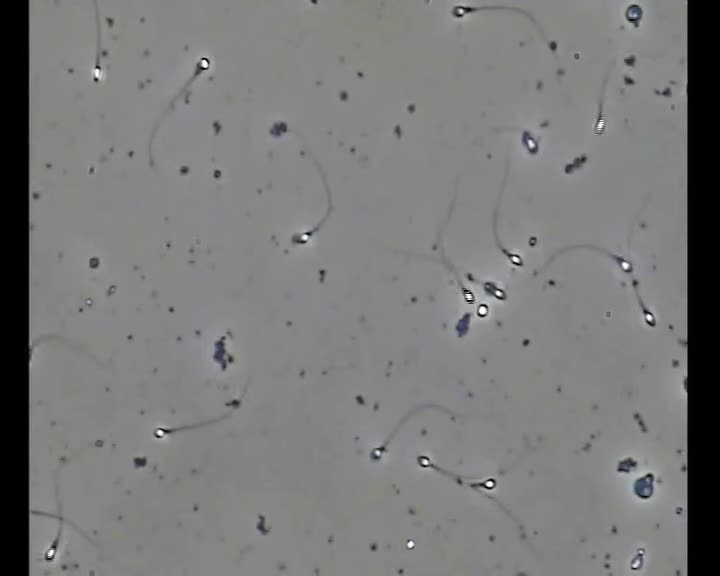spermhead: (633, 473, 654, 499), (521, 130, 538, 154), (625, 4, 642, 25), (630, 548, 644, 570), (451, 5, 473, 18), (292, 230, 312, 244), (616, 256, 632, 273), (44, 541, 57, 561), (195, 57, 210, 74), (370, 446, 385, 460), (477, 478, 496, 489), (506, 253, 522, 266), (643, 309, 655, 326), (153, 427, 171, 438), (92, 64, 103, 82), (594, 116, 605, 134), (225, 398, 241, 409), (417, 455, 431, 467), (483, 281, 495, 295), (463, 288, 474, 303), (477, 303, 488, 317), (494, 287, 505, 300), (455, 474, 464, 485), (548, 40, 557, 51), (28, 344, 33, 363), (406, 539, 415, 549), (85, 297, 94, 307), (528, 236, 537, 246)
